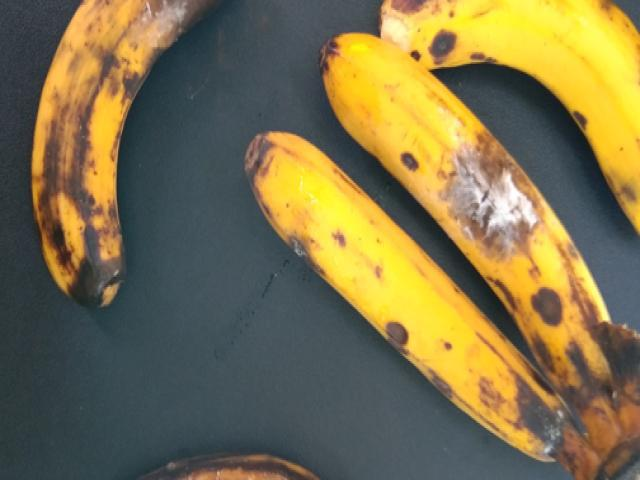overripe: (243, 138, 586, 469), (315, 42, 603, 405), (372, 2, 639, 224)
rotten: (14, 0, 247, 335), (417, 103, 557, 273), (92, 431, 316, 479)
